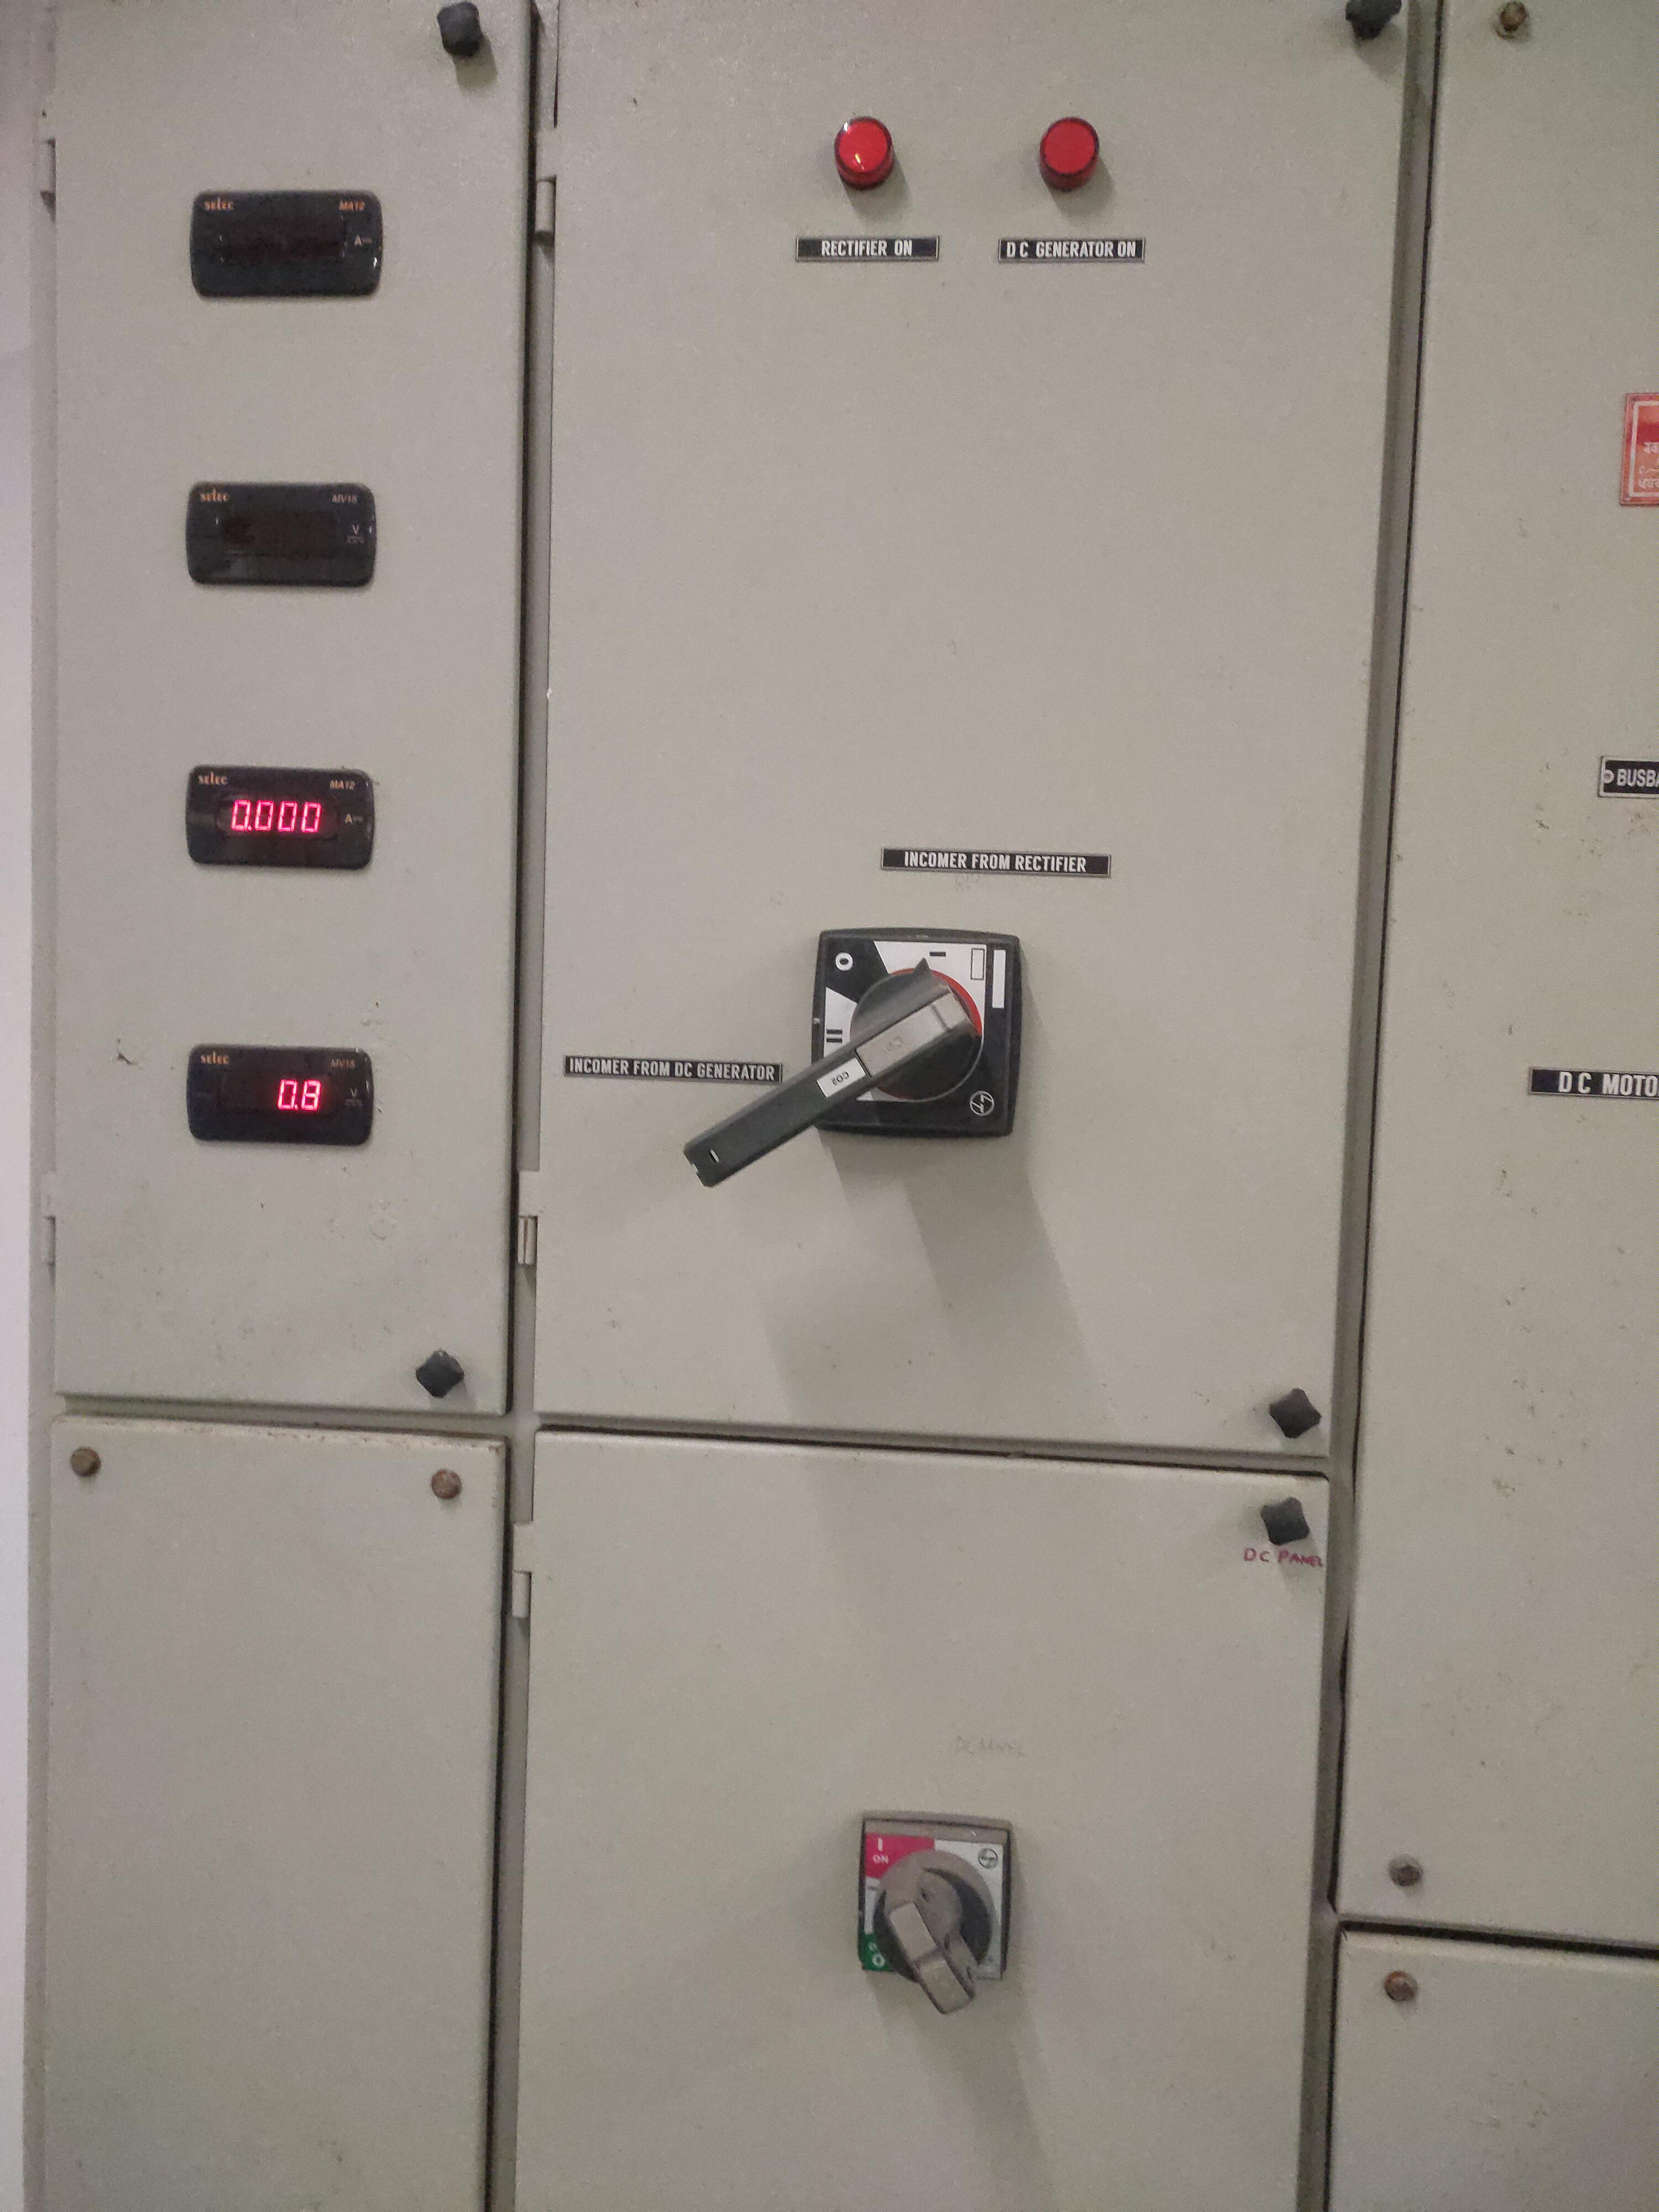Knob 1: (619, 899, 1058, 1216)
Knob 2: (821, 1775, 1040, 2040)
Light Indications: (781, 87, 1164, 291)
